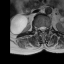CCS_normal: (41, 24, 43, 33)
LFS_normal: (46, 25, 48, 31)
LLS_normal: (44, 25, 46, 32)
RFS_normal: (37, 25, 39, 32)
RLS_normal: (39, 25, 41, 32)
